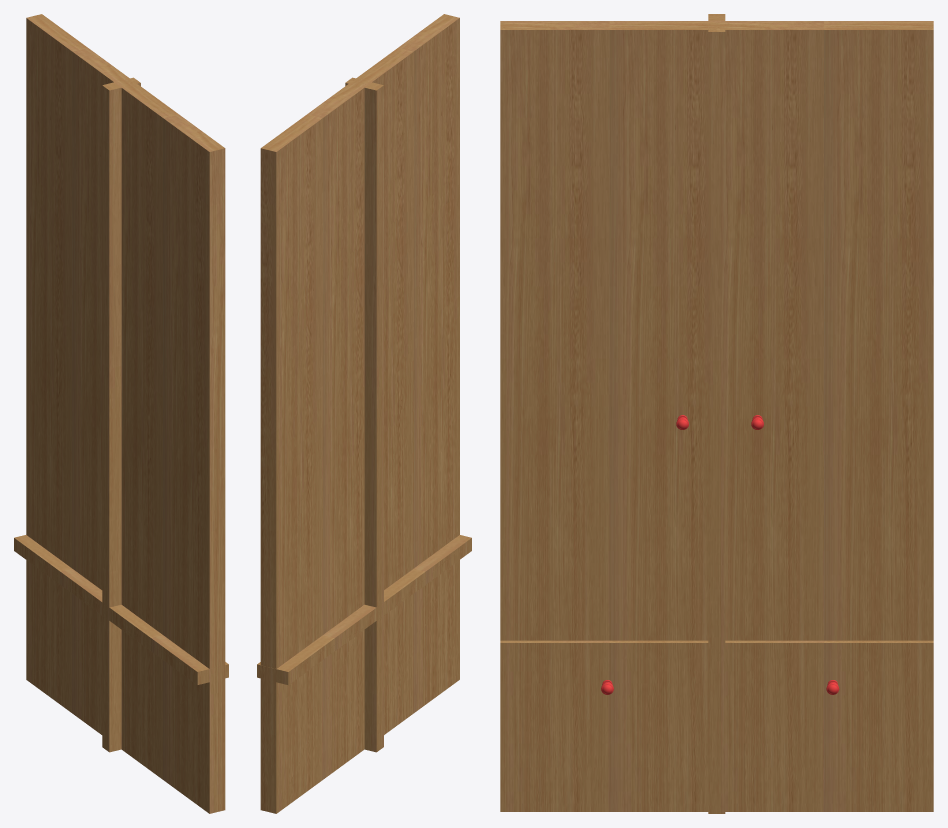
File: cabinet02.FBX
3 renders of one model, left to right at view 1: azimuth 30°, elevation 25°; view 2: azimuth 150°, elevation 25°; view 3: azimuth 270°, elevation 25°, orthographic. The views are drawn at different scales.
Visible parts, largest first — view 1: cabinet02; view 2: cabinet02; view 3: cabinet02.
Boxes of the visible parts, x1,y1,x2,y2 form: cabinet02: (14,14,228,813); cabinet02: (257,14,471,813); cabinet02: (500,14,933,813).
Size of the model in its own units: 122 by 2010 by 1010.
